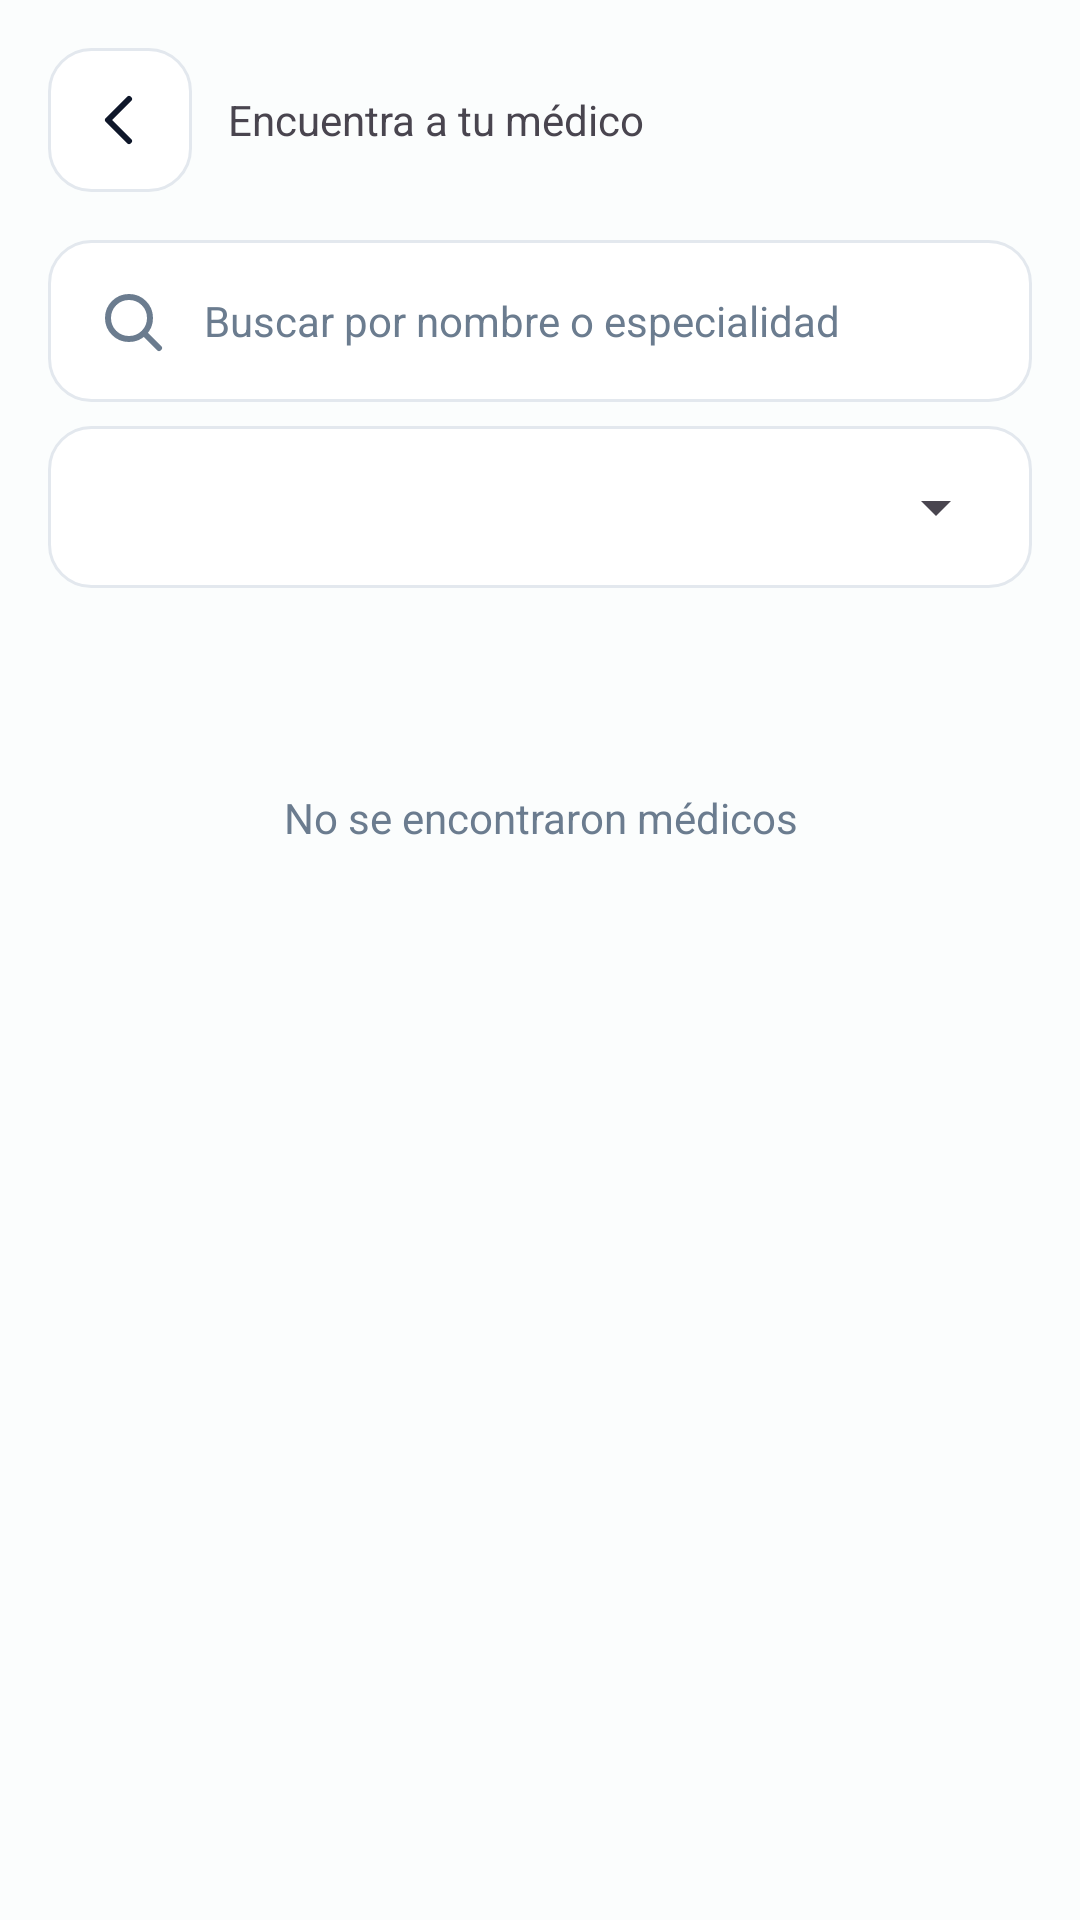

Icon bounding boxes for this 1080*1920 phone screenshot, format (x1, y1, x2, y2):
Volver: (105, 96, 132, 144)
